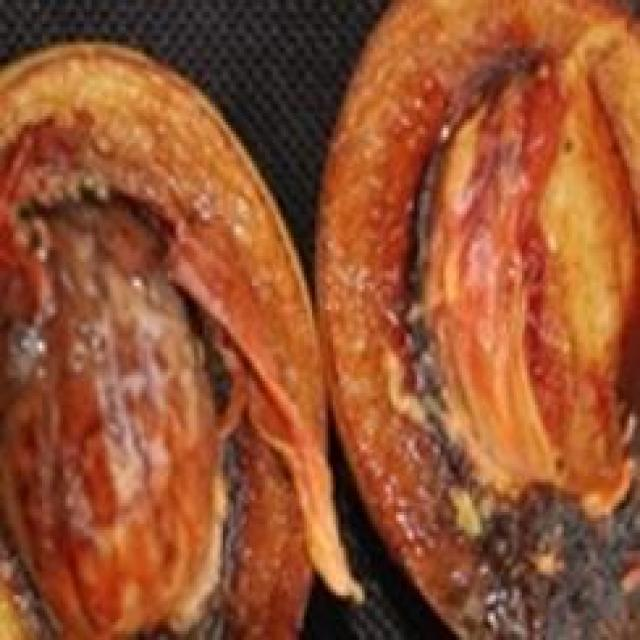damaged: (0, 42, 365, 637), (315, 0, 637, 637)
